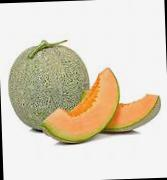Melon Ripe: (6, 37, 91, 132), (40, 67, 120, 145)
